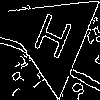H: (28, 12, 75, 69)
